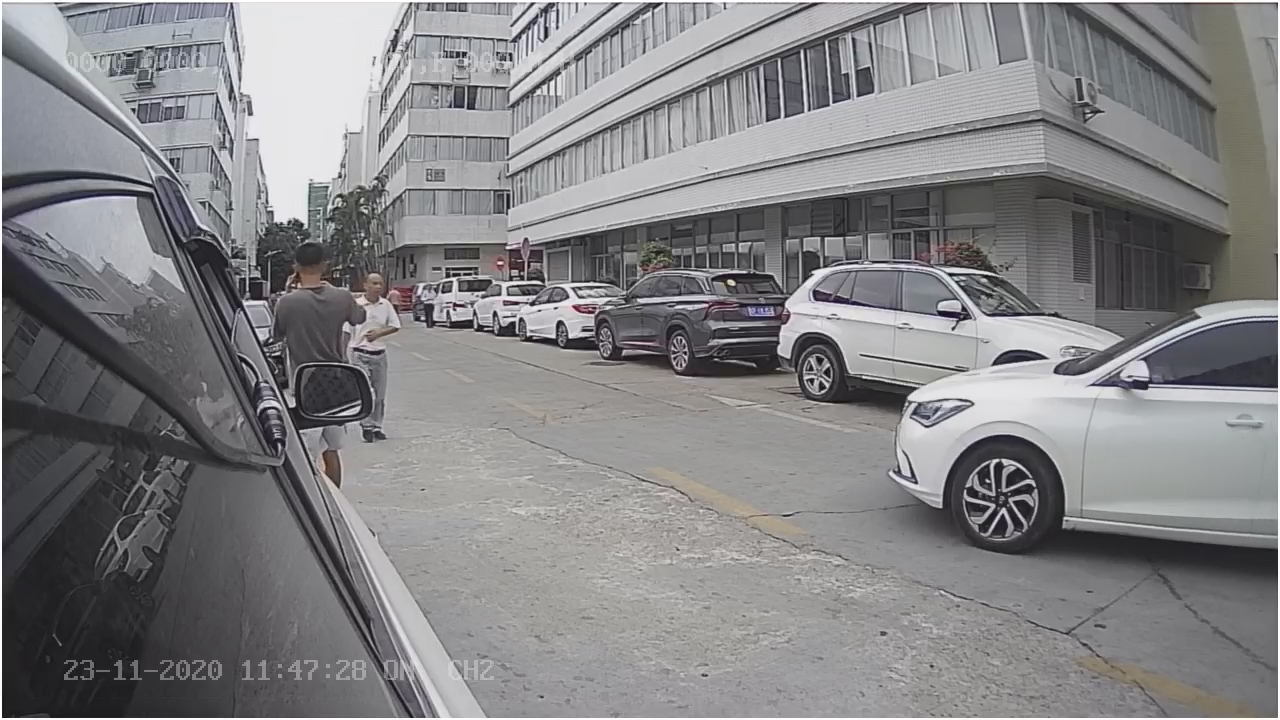person: (267, 231, 371, 354)
